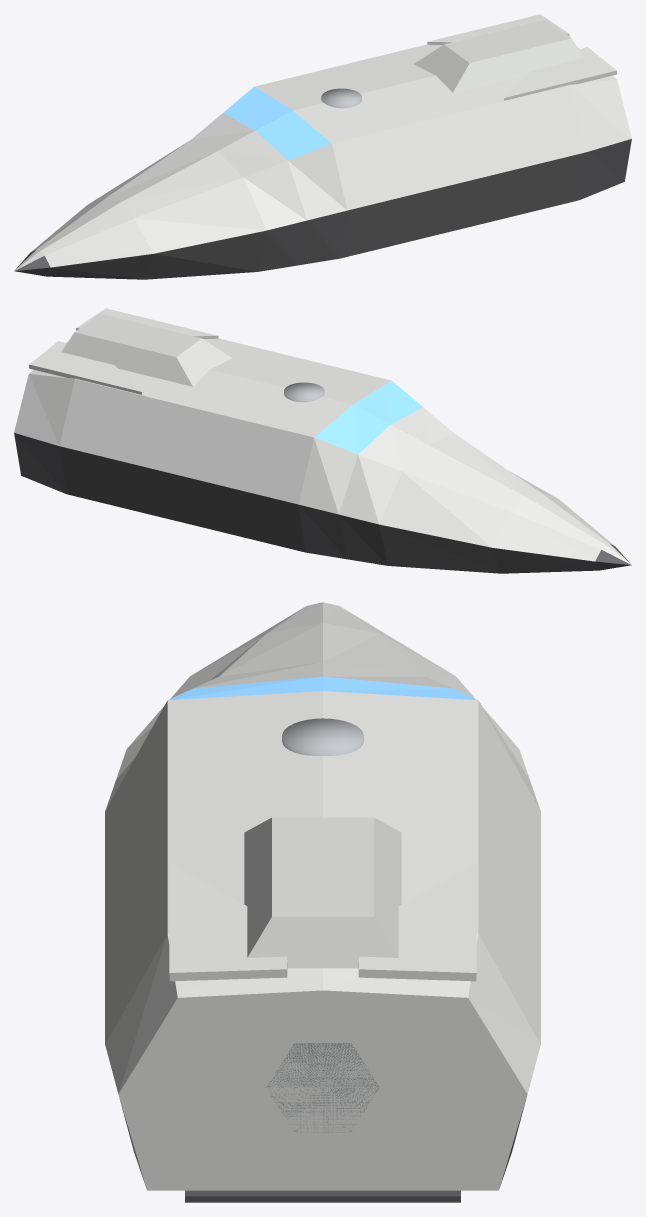
The model's file is b4s_venus.glb.
3 renders of one model, top to bottom at view 1: azimuth 30°, elevation 25°; view 2: azimuth 150°, elevation 25°; view 3: azimuth 270°, elevation 25°, orthographic. The views are drawn at different scales.
Parts seen in each view (by area): view 1: hull, belly_tps, kit_pod, glazing, fin_port, fin_stbd, dorsal_hatch; view 2: hull, belly_tps, kit_pod, glazing, fin_stbd, fin_port, dorsal_hatch; view 3: hull, kit_pod, fin_stbd, fin_port, torch_nozzle, glazing, body_flap, dorsal_hatch.
Boxes of the visible parts, x1,y1,x2,y2 form: hull: (14, 44, 631, 270); belly_tps: (14, 139, 631, 279); kit_pod: (414, 19, 584, 92); glazing: (223, 87, 331, 160); fin_port: (504, 47, 616, 100); fin_stbd: (427, 14, 569, 44); dorsal_hatch: (321, 88, 361, 108); hull: (14, 338, 631, 564); belly_tps: (14, 433, 631, 573); kit_pod: (61, 313, 231, 386); glazing: (314, 381, 422, 454); fin_stbd: (29, 341, 141, 394); fin_port: (76, 308, 218, 338); dorsal_hatch: (284, 382, 324, 402); hull: (105, 602, 540, 1190); kit_pod: (244, 817, 401, 968); fin_stbd: (358, 863, 476, 981); fin_port: (169, 863, 287, 981); torch_nozzle: (266, 1043, 379, 1132); glazing: (168, 676, 477, 700); body_flap: (185, 1190, 460, 1202); dorsal_hatch: (282, 718, 363, 755).
Size of the model in its own units: 12.8 by 2.86 by 4.26.
